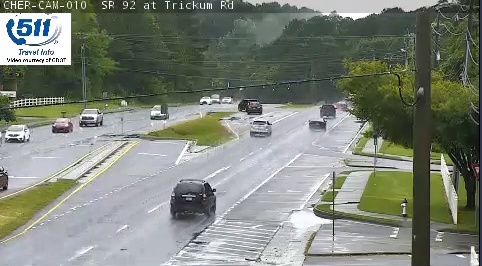car: (170, 180, 216, 214), (250, 119, 272, 135), (308, 117, 326, 130), (320, 104, 336, 118)
